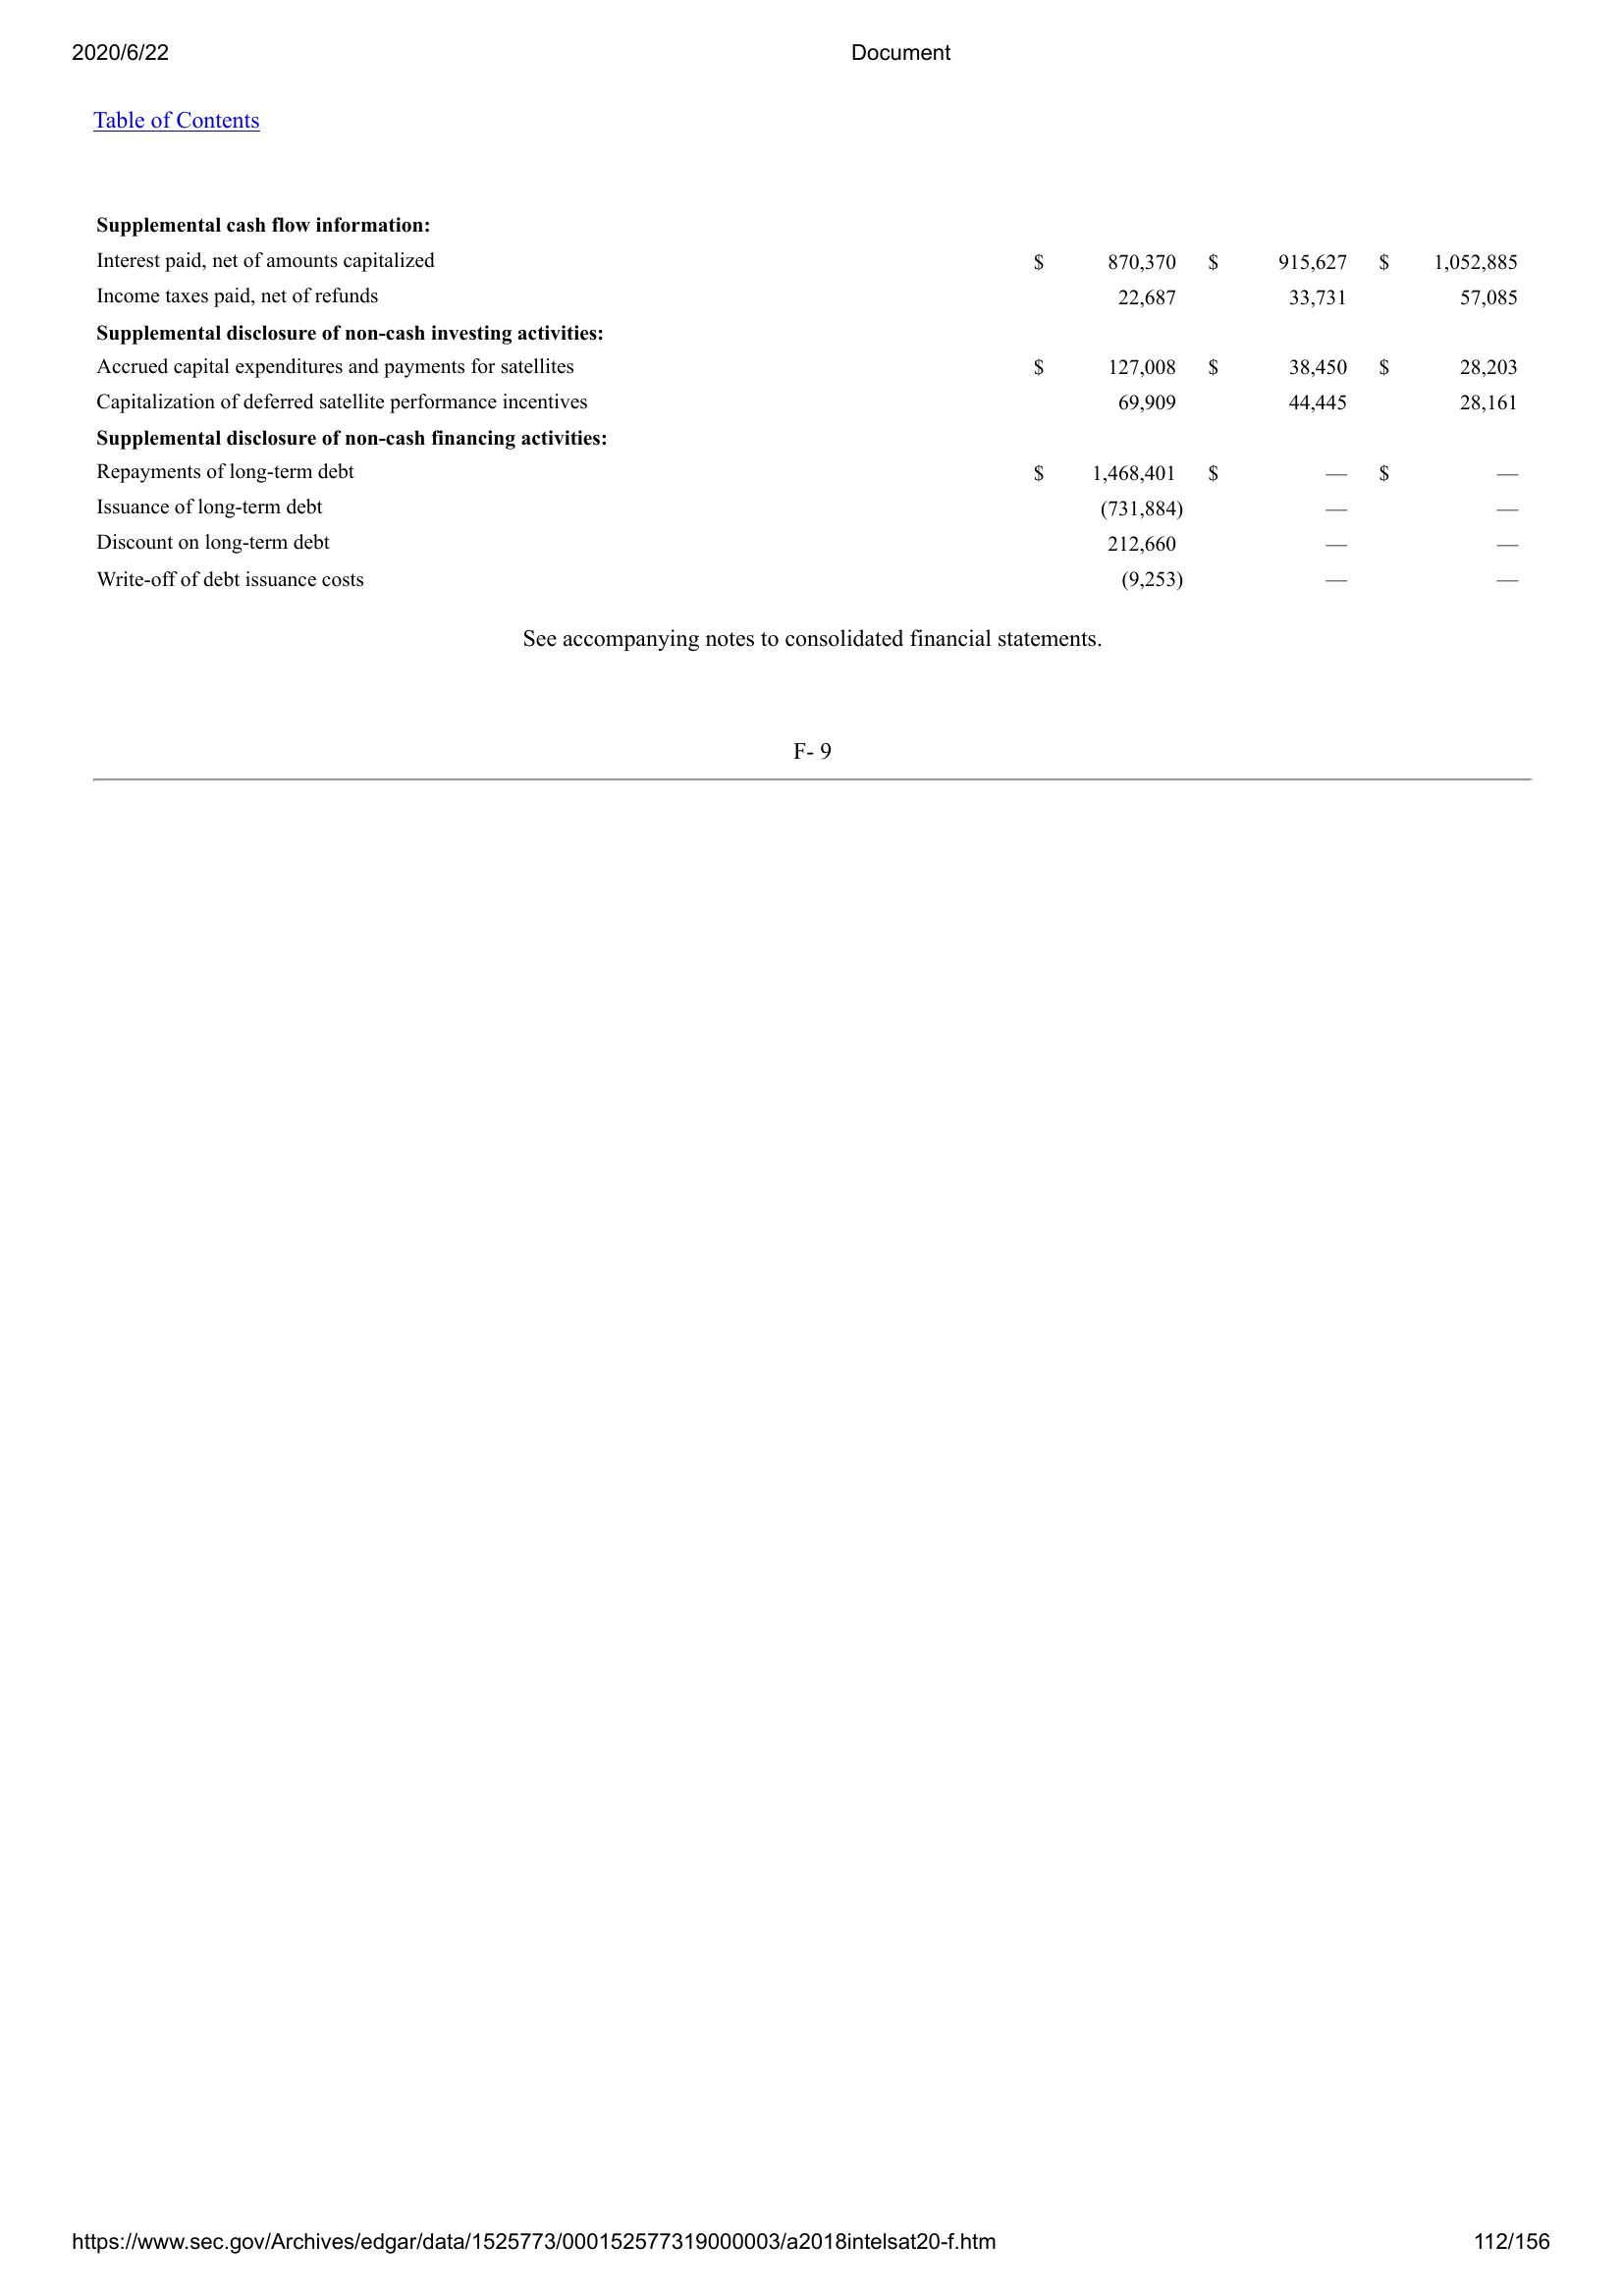table: (84, 209, 1530, 602)
